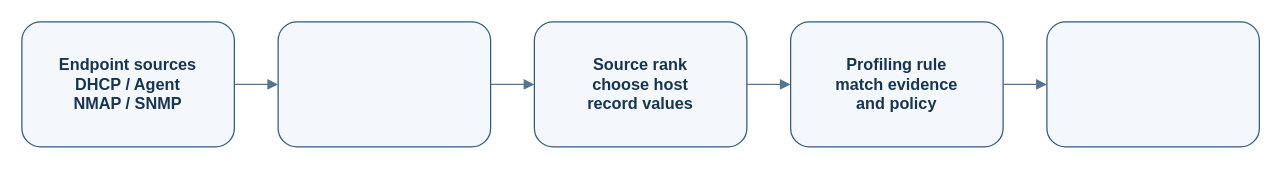
Image size: 1281x169. Some labels were removed from this diagram. Each missing label, with the centre of its shape:
"Fingerprint records per MAC attributes" goes at [384,84].
"Rogue or registered host state" goes at [1152,84].
